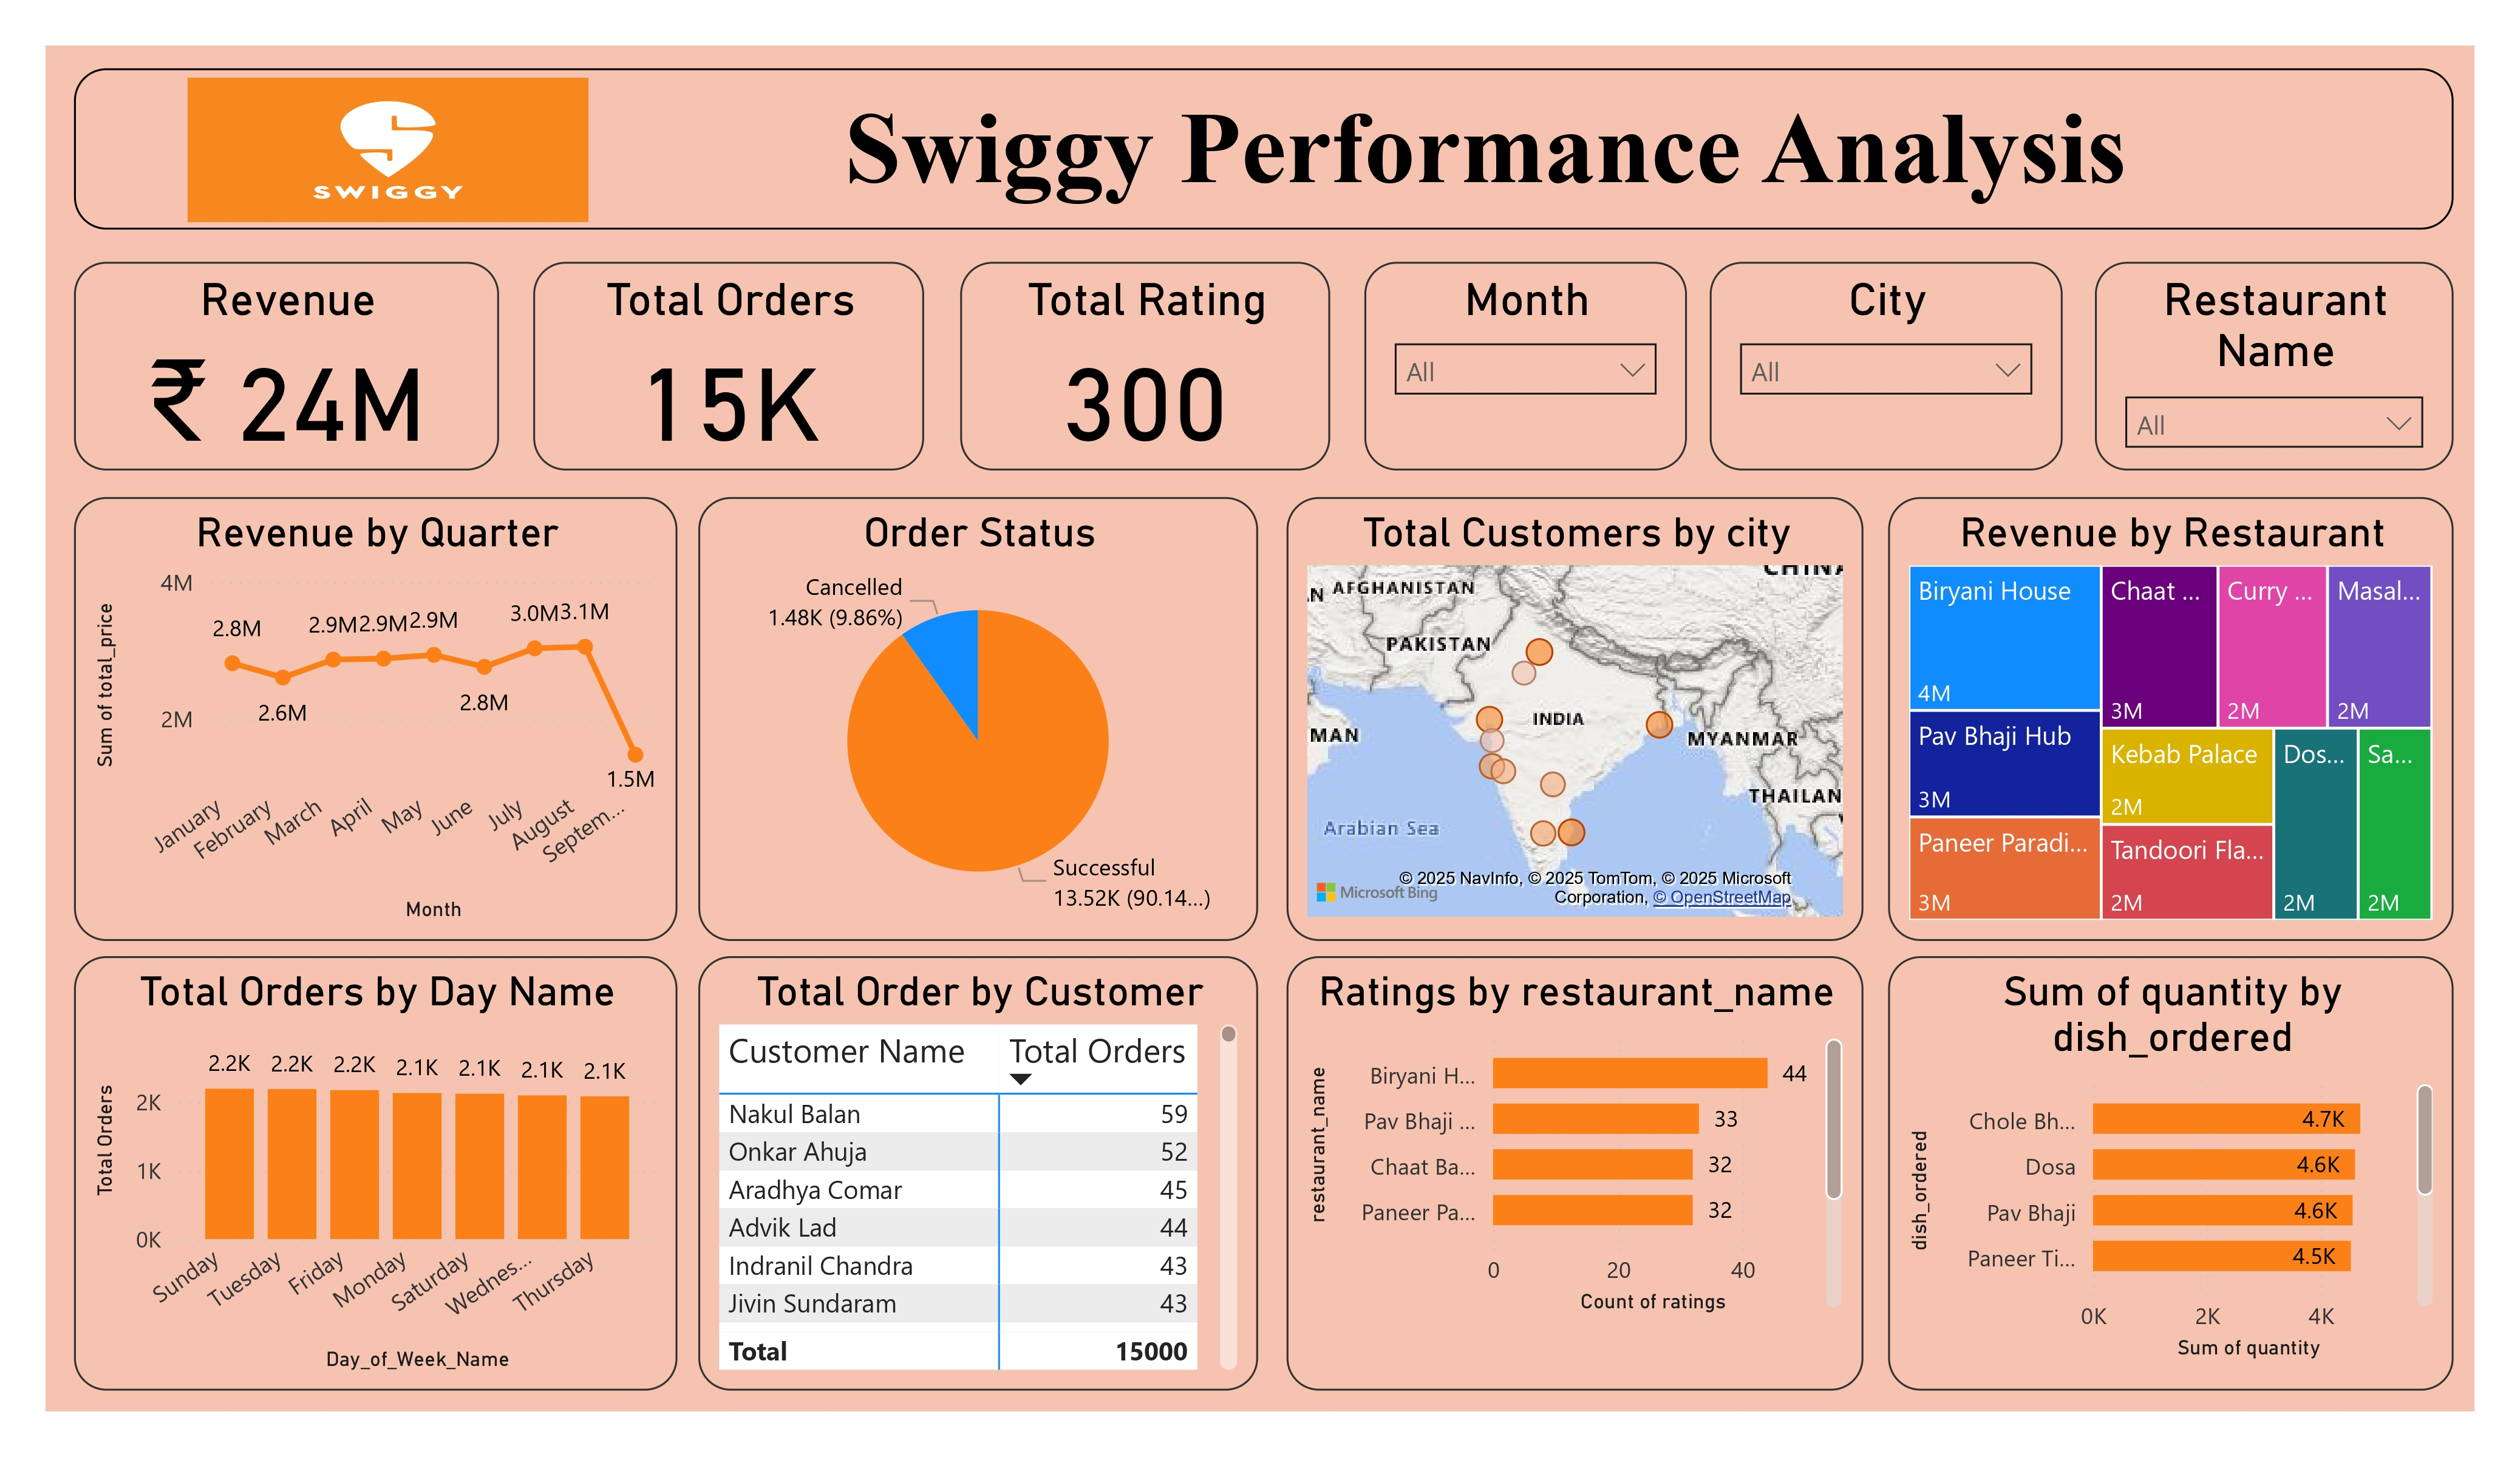

The dashboard page shown, as its layout file describes it:
{"tool":"powerbi","page":{"name":"Dashboard","canvas":[1280,720],"ordinal":0},"visuals":[{"type":"textbox","box":[15.1,12.1,1253.8,84.8],"z":0},{"type":"image","box":[69.7,12.1,221.1,86.3],"z":1000},{"type":"lineChart","title":"Revenue by Quarter","fields":{"Category":["Orders.delivery_time.Variation.Date Hierarchy.Quarter","Orders.delivery_time.Variation.Date Hierarchy.Month","Orders.delivery_time.Variation.Date Hierarchy.Day"],"Y":["Orders.total_price"]},"box":[15.1,257.4,318,215],"z":2000},{"type":"columnChart","title":"Total Orders by Day Name","fields":{"Category":["Orders.Day_of_Week_Name"],"Y":["Orders.order_id"]},"box":[15.1,480,318,228.6],"z":3000},{"type":"pieChart","title":"Order Status","fields":{"Y":["Orders.order_status"],"Category":["Orders.order_status"]},"box":[343.7,257.4,295.3,215],"z":4000},{"type":"pivotTable","title":"Total Order by Customer","fields":{"Rows":["customers.customer_name"],"Values":["Orders.quantity"]},"box":[343.7,480,295.3,228.6],"z":5000},{"type":"map","title":"Total Customers by city","fields":{"Category":["customers.city"],"Size":["customers.customer_id"]},"box":[654.1,257.4,304.4,215],"z":6000},{"type":"barChart","title":"Ratings by restaurant_name","fields":{"Y":["restaurants.ratings"],"Category":["restaurants.restaurant_name"]},"box":[654.1,480,304.4,228.6],"z":7000},{"type":"treemap","title":"Revenue by Restaurant","fields":{"Group":["restaurants.restaurant_name"],"Values":["Orders.total_price"]},"box":[970.6,257.4,298.3,215],"z":8000},{"type":"barChart","fields":{"Category":["Orders.dish_ordered"],"Y":["Orders.quantity"]},"box":[970.6,480,298.3,228.6],"z":9000},{"type":"card","title":"Revenue","fields":{"Values":["Table.Total Revenue"]},"box":[15.1,113.6,224.1,130.2],"z":10000},{"type":"card","title":"Total Orders","fields":{"Values":["Orders.order_id"]},"box":[256.7,113.3,206.7,130],"z":11000},{"type":"card","title":"Total Rating","fields":{"Values":["restaurants.ratings"]},"box":[481.5,113.6,195.3,130.2],"z":12000},{"type":"slicer","title":"City","fields":{"Values":["customers.city"]},"box":[876.7,113.3,186.7,130],"z":13000},{"type":"slicer","title":"Month","fields":{"Values":["Orders.order_date.Variation.Date Hierarchy.Month"]},"box":[695,113.3,170,130],"z":14000},{"type":"slicer","title":"Restaurant Name","fields":{"Values":["restaurants.restaurant_name"]},"box":[1079.6,113.6,189.3,130.2],"z":15000}]}

Visuals, with their boxes on the page's 1280x720 design canvas (x1, y1, x2, y2). These are canvas units, not pixel positions in the 2520x1457 screenshot, which may show the page scaled, cropped or inside an application window:
textbox: [x1=15, y1=12, x2=1269, y2=97]
image: [x1=70, y1=12, x2=291, y2=98]
"Revenue by Quarter" lineChart: [x1=15, y1=257, x2=333, y2=472]
"Total Orders by Day Name" columnChart: [x1=15, y1=480, x2=333, y2=709]
"Order Status" pieChart: [x1=344, y1=257, x2=639, y2=472]
"Total Order by Customer" pivotTable: [x1=344, y1=480, x2=639, y2=709]
"Total Customers by city" map: [x1=654, y1=257, x2=958, y2=472]
"Ratings by restaurant_name" barChart: [x1=654, y1=480, x2=958, y2=709]
"Revenue by Restaurant" treemap: [x1=971, y1=257, x2=1269, y2=472]
barChart - Orders.dish_ordered x Orders.quantity: [x1=971, y1=480, x2=1269, y2=709]
"Revenue" card: [x1=15, y1=114, x2=239, y2=244]
"Total Orders" card: [x1=257, y1=113, x2=463, y2=243]
"Total Rating" card: [x1=482, y1=114, x2=677, y2=244]
"City" slicer: [x1=877, y1=113, x2=1063, y2=243]
"Month" slicer: [x1=695, y1=113, x2=865, y2=243]
"Restaurant Name" slicer: [x1=1080, y1=114, x2=1269, y2=244]
